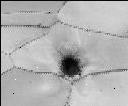good_void: (54, 48, 85, 84)
